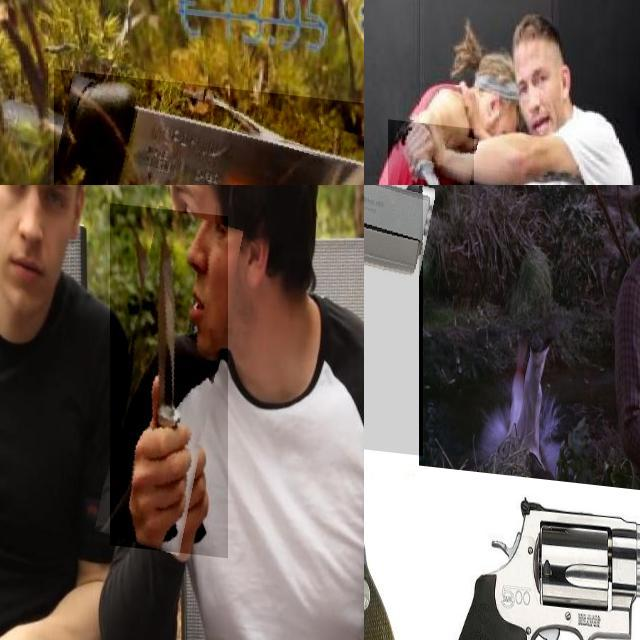-: (110, 196, 228, 549), (53, 66, 364, 185), (387, 114, 474, 185)
gun-knife-thesis - v11 Yolov5 augmented: (364, 185, 526, 448), (428, 471, 640, 640), (364, 434, 520, 640)
